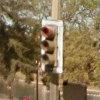Traffic light: (28, 13, 69, 91)
